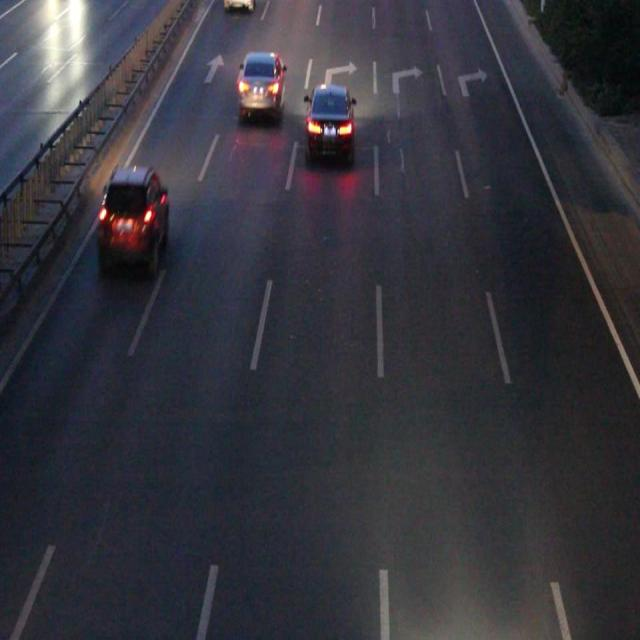car: (100, 168, 168, 266), (305, 87, 353, 157), (238, 54, 284, 112)
truck: (224, 1, 253, 13)
